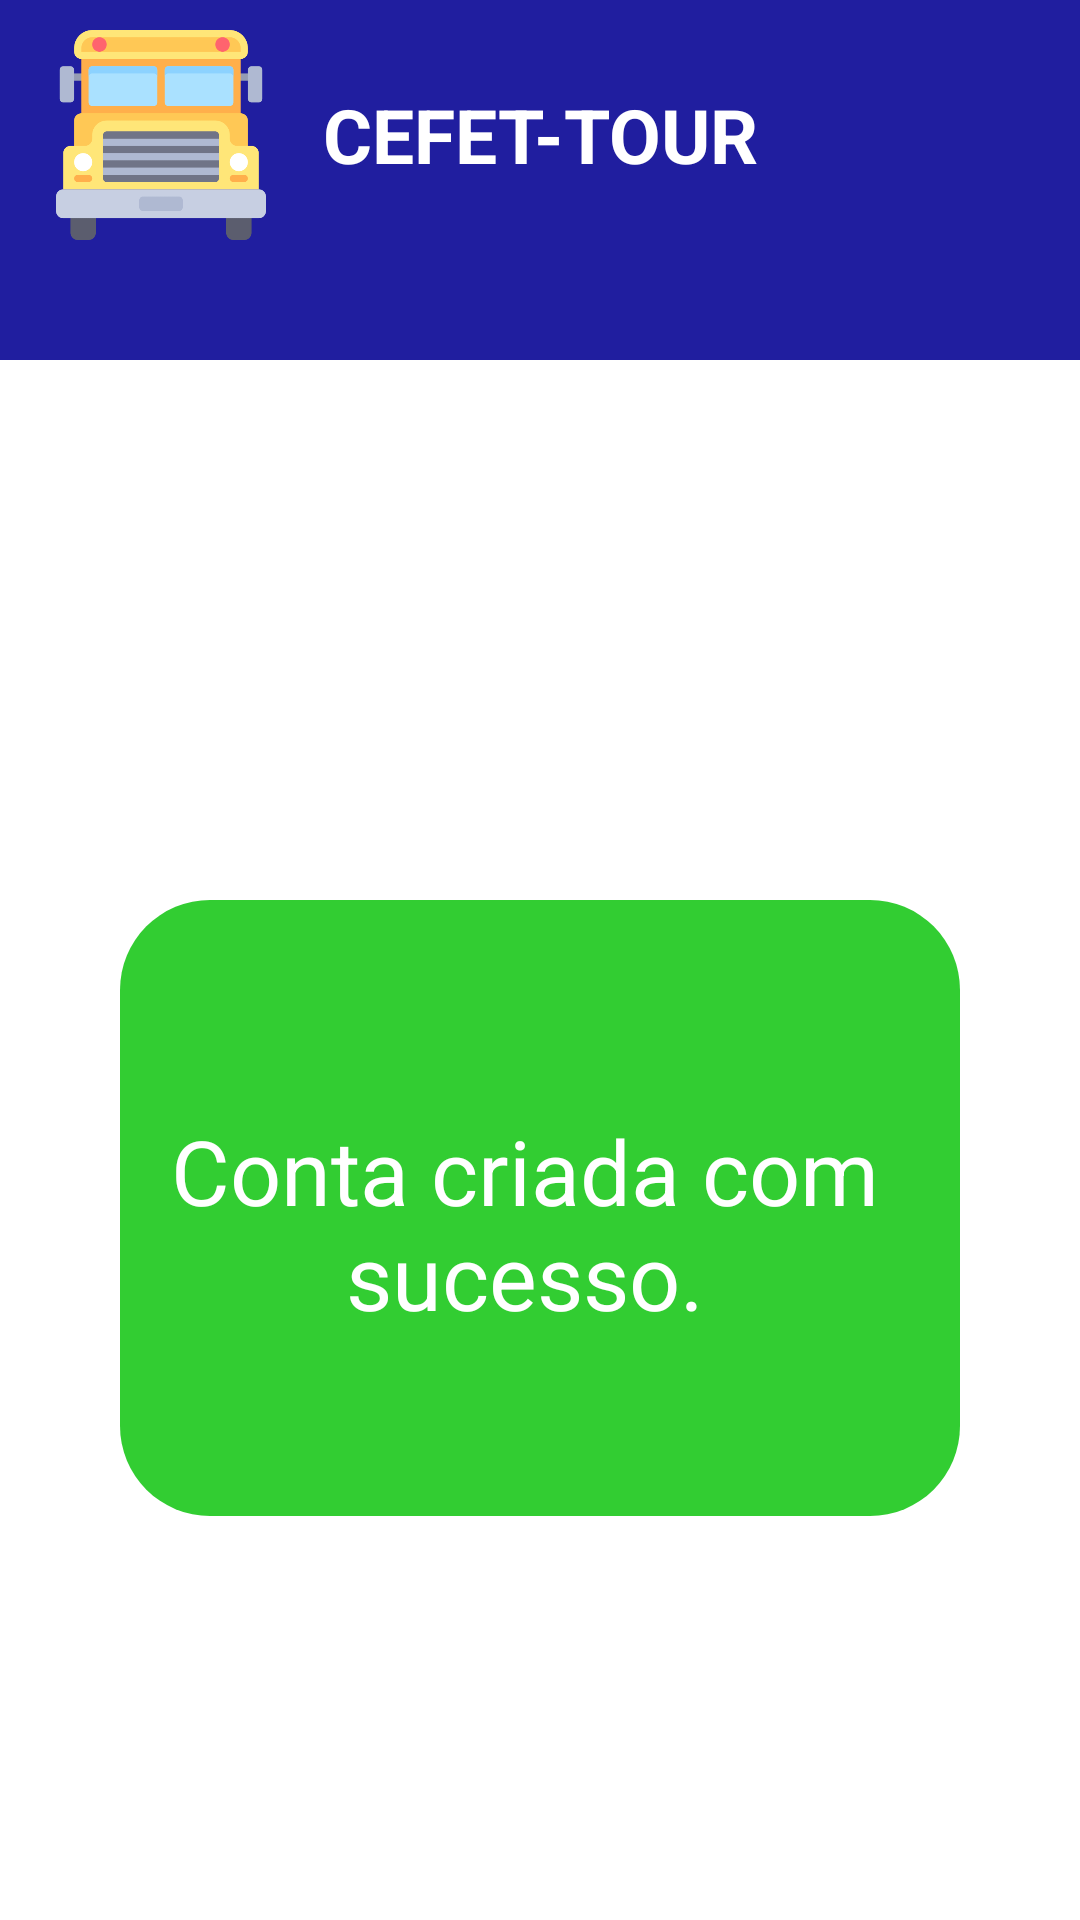

Icons on this 1080x1920 Android screen, each with the point to tap as [x,y]:
schoolbus: [161,135]
